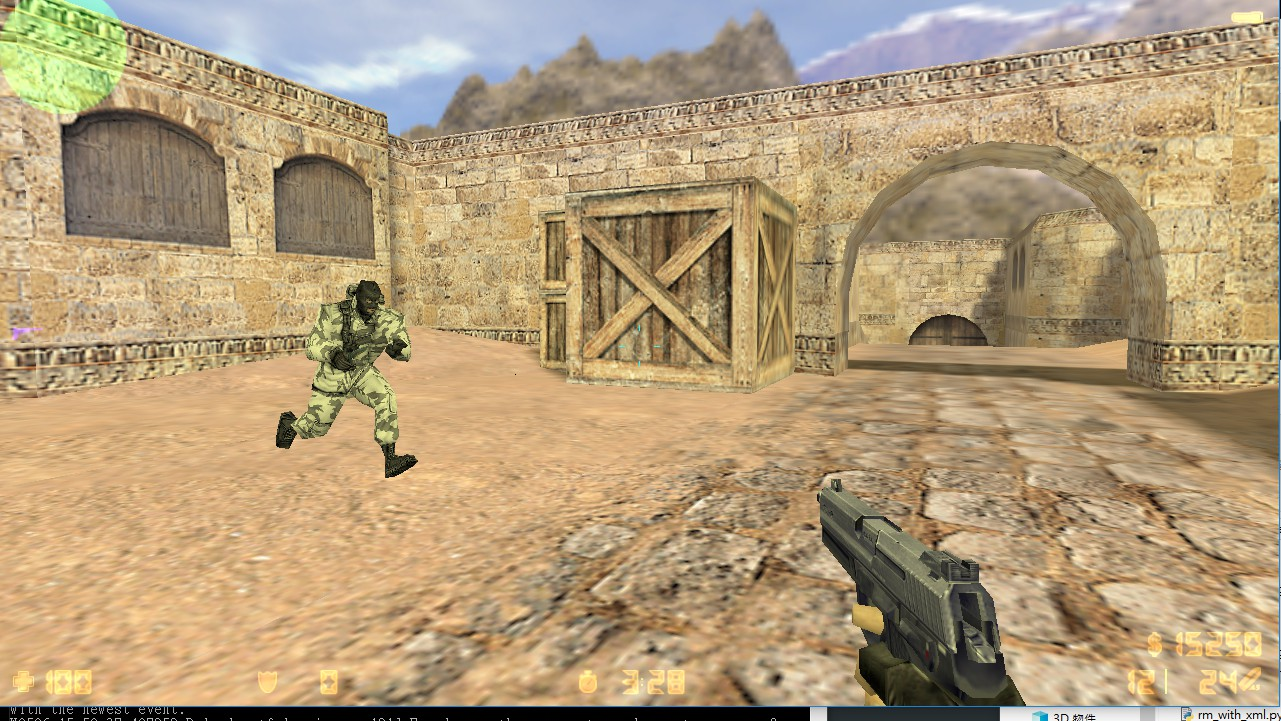person: (289, 277, 419, 488)
